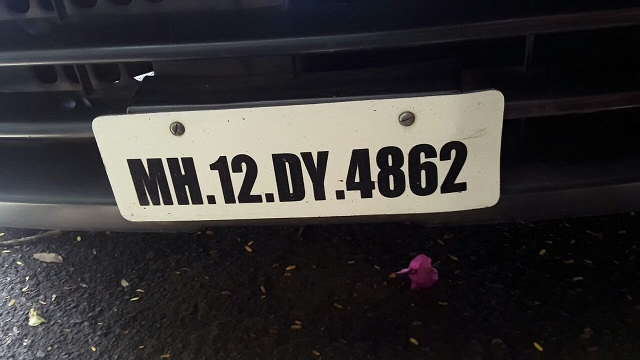licenseplate: (89, 90, 507, 222)
